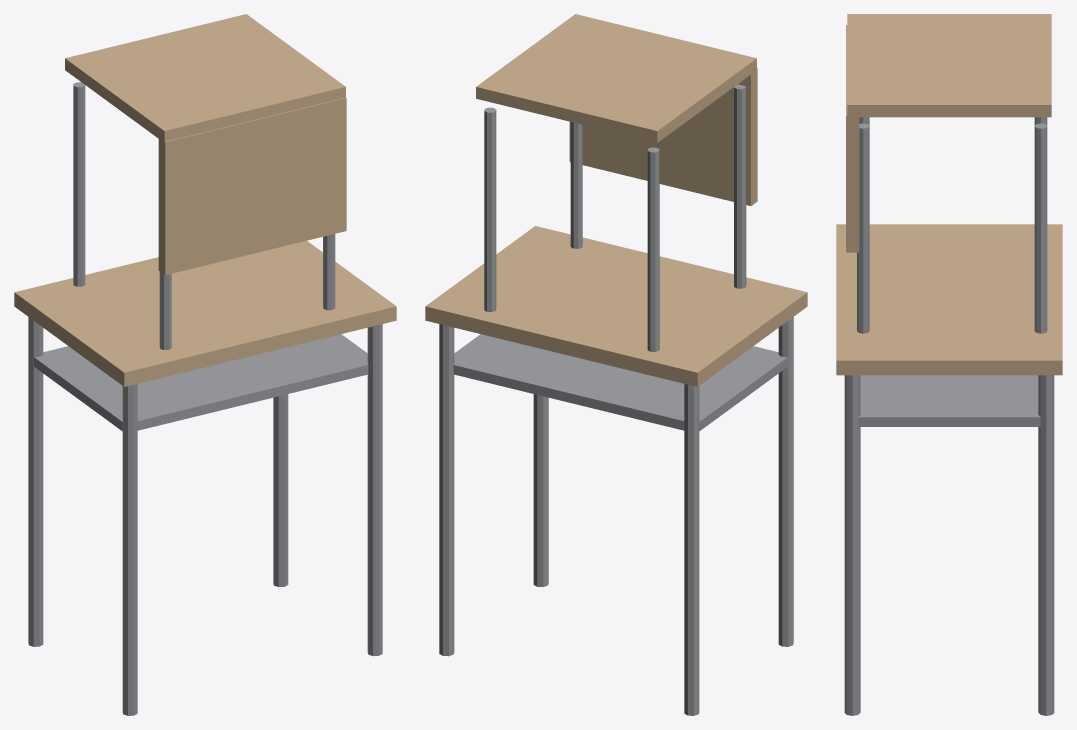
File: school_desk.glb
3 views of the same model, side by side, from view 1: azimuth 30°, elevation 25°; view 2: azimuth 150°, elevation 25°; view 3: azimuth 270°, elevation 25° (orthographic). The views are drawn at different scales.
Parts seen in each view (by area): view 1: school_desk; view 2: school_desk; view 3: school_desk.
Boxes of the visible parts, x1=… form: school_desk: x1=14, y1=14, x2=396, y2=715; school_desk: x1=425, y1=14, x2=807, y2=715; school_desk: x1=836, y1=14, x2=1062, y2=715.
Size of the model in its own units: 0.6 by 1.21 by 0.42.
